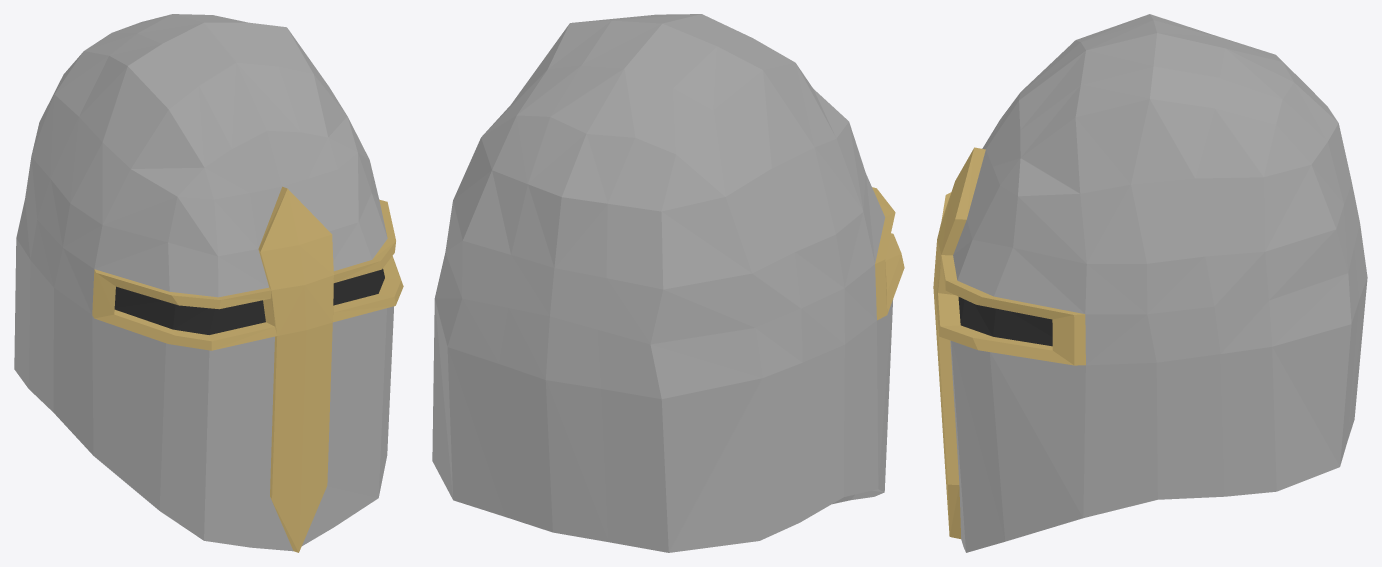
Rendered from Helmet3.glb.
3 views of the same model, side by side, from view 1: azimuth 30°, elevation 25°; view 2: azimuth 150°, elevation 25°; view 3: azimuth 270°, elevation 25° (orthographic). The views are drawn at different scales.
Visible parts, largest first — view 1: Helmet3; view 2: Helmet3; view 3: Helmet3.
Boxes of the visible parts, left/top/right/bottom form: Helmet3: left=14, top=14, right=403, bottom=552; Helmet3: left=432, top=14, right=904, bottom=552; Helmet3: left=933, top=14, right=1367, bottom=552.
Bounding box in the file's own units: 1.34 × 1.97 × 1.53.
